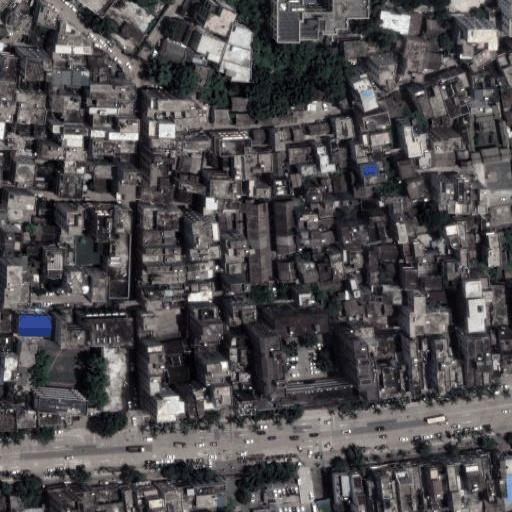building: (258, 338, 358, 410), (269, 0, 362, 35), (212, 15, 248, 75), (104, 203, 127, 294), (249, 204, 270, 282), (84, 317, 140, 346), (346, 334, 371, 395), (264, 307, 317, 333), (187, 302, 218, 346), (181, 484, 227, 512), (147, 99, 204, 118), (151, 310, 184, 339), (18, 313, 53, 338), (186, 388, 213, 419), (57, 317, 84, 347), (378, 10, 411, 34), (193, 27, 221, 55), (146, 397, 176, 423), (38, 391, 86, 407), (25, 57, 55, 82), (59, 20, 89, 45), (244, 154, 274, 179), (9, 194, 36, 221), (158, 38, 186, 64), (414, 89, 436, 122), (276, 200, 294, 240), (397, 291, 414, 333), (89, 85, 136, 100), (168, 20, 194, 47), (429, 84, 449, 119), (481, 457, 497, 500), (342, 225, 369, 250), (467, 298, 486, 333), (403, 333, 414, 393), (457, 18, 487, 40), (444, 95, 470, 120), (120, 23, 147, 47), (464, 458, 484, 490), (472, 47, 499, 70), (220, 136, 251, 156), (424, 338, 435, 394), (55, 71, 91, 88), (404, 126, 423, 158), (36, 4, 59, 30), (139, 346, 158, 377), (447, 463, 467, 492), (362, 111, 391, 131), (455, 333, 467, 381), (16, 92, 47, 110), (67, 271, 91, 294), (45, 250, 64, 279), (414, 306, 439, 328), (406, 174, 427, 200), (210, 179, 240, 197), (360, 88, 379, 116), (58, 175, 82, 197), (189, 65, 211, 89), (333, 473, 351, 502), (194, 222, 213, 249), (47, 486, 70, 508), (157, 211, 182, 231), (142, 273, 187, 284), (91, 275, 109, 302), (402, 52, 424, 74), (353, 475, 366, 512), (16, 108, 46, 124), (179, 156, 203, 176), (10, 140, 35, 159), (144, 262, 187, 273), (20, 341, 38, 367), (334, 118, 355, 140), (85, 202, 100, 232), (150, 163, 168, 188), (142, 188, 172, 203), (233, 306, 258, 324), (407, 12, 425, 37), (430, 468, 443, 502), (124, 490, 144, 512), (192, 351, 212, 373), (214, 387, 233, 410), (57, 198, 72, 227), (38, 406, 71, 419), (288, 147, 313, 164), (55, 227, 76, 247), (88, 100, 118, 114), (396, 159, 417, 179), (373, 57, 392, 79), (166, 366, 189, 384), (6, 266, 23, 290), (54, 59, 88, 71), (179, 181, 207, 195), (474, 333, 482, 381), (16, 162, 35, 182), (2, 229, 16, 256), (115, 184, 136, 202), (437, 79, 455, 100), (430, 152, 457, 166), (452, 490, 469, 512), (118, 116, 140, 133), (381, 197, 403, 214), (369, 132, 391, 149), (182, 141, 213, 153), (375, 361, 391, 384), (91, 57, 111, 75), (92, 114, 116, 129), (229, 336, 239, 372), (353, 184, 377, 199), (92, 139, 113, 156), (439, 182, 456, 203), (41, 144, 63, 160), (459, 248, 470, 280), (330, 145, 352, 161), (345, 41, 367, 57), (278, 262, 297, 280), (421, 164, 459, 173), (13, 406, 33, 423), (272, 180, 292, 197), (502, 53, 512, 87), (113, 139, 137, 153), (467, 333, 474, 381), (63, 110, 85, 125), (497, 330, 512, 352), (63, 149, 88, 162), (464, 280, 482, 298), (350, 250, 368, 268), (319, 155, 337, 173), (299, 214, 318, 231), (231, 97, 250, 114), (162, 341, 185, 355), (405, 268, 419, 291), (276, 240, 297, 255), (405, 40, 426, 55), (432, 140, 454, 154), (457, 40, 475, 57), (26, 247, 45, 263), (334, 174, 350, 193), (85, 192, 115, 202), (361, 164, 381, 179), (95, 489, 118, 502), (187, 281, 214, 292), (484, 498, 505, 512), (63, 135, 84, 149), (309, 121, 330, 135), (9, 494, 25, 512), (37, 224, 55, 240), (96, 160, 112, 178), (63, 162, 85, 175), (187, 261, 215, 271), (378, 245, 398, 259), (218, 213, 232, 233), (501, 0, 510, 31), (345, 300, 366, 313), (118, 100, 135, 116), (330, 263, 346, 280), (223, 197, 240, 213), (187, 271, 214, 281), (187, 292, 214, 302), (319, 280, 346, 290), (177, 190, 195, 205), (435, 345, 441, 390), (143, 231, 162, 245), (371, 334, 385, 353), (424, 276, 443, 290), (175, 118, 208, 126), (498, 122, 509, 146), (501, 352, 512, 376), (18, 284, 31, 304), (143, 205, 153, 231), (138, 286, 164, 296), (140, 377, 153, 397), (291, 287, 304, 307), (13, 386, 30, 401), (3, 354, 18, 371), (4, 290, 18, 308), (144, 296, 162, 310), (238, 401, 256, 415), (234, 382, 255, 394), (215, 110, 229, 128), (449, 76, 463, 94), (272, 116, 297, 126), (353, 79, 372, 92), (227, 247, 249, 258), (274, 129, 285, 151), (318, 203, 333, 219), (234, 155, 244, 179), (274, 154, 284, 178), (63, 96, 80, 110), (484, 246, 498, 263), (504, 475, 512, 504), (381, 292, 391, 315), (346, 322, 365, 334), (397, 223, 409, 242), (423, 51, 442, 63), (366, 302, 381, 317), (159, 124, 175, 138), (251, 129, 267, 143), (181, 47, 195, 63), (465, 58, 479, 74), (457, 73, 471, 89), (6, 11, 19, 28), (161, 177, 174, 194), (149, 138, 171, 148), (250, 116, 272, 126), (419, 133, 430, 153), (447, 262, 459, 280), (381, 225, 393, 243), (229, 283, 253, 292), (72, 45, 93, 55), (229, 372, 250, 382), (430, 290, 445, 304), (497, 54, 511, 69), (385, 259, 396, 278), (191, 249, 208, 261), (391, 289, 403, 306), (369, 225, 381, 242), (369, 215, 389, 225), (482, 155, 502, 165), (367, 480, 378, 498), (319, 262, 330, 280), (299, 231, 321, 240), (422, 61, 440, 72), (481, 147, 499, 158), (456, 182, 465, 204), (94, 178, 108, 192), (208, 246, 221, 261), (425, 40, 440, 53), (51, 96, 63, 112), (440, 473, 450, 492), (368, 252, 378, 271), (109, 133, 140, 139), (391, 361, 399, 384), (297, 240, 320, 248), (63, 128, 89, 135), (394, 40, 407, 54), (449, 137, 463, 150), (467, 489, 479, 504), (67, 247, 76, 267), (33, 124, 45, 139), (145, 245, 163, 255), (419, 256, 428, 276), (307, 191, 322, 203), (298, 164, 316, 174), (486, 231, 498, 246), (333, 501, 349, 512), (140, 314, 151, 330), (303, 271, 319, 282), (223, 156, 234, 172), (440, 358, 446, 387), (297, 262, 316, 271), (149, 121, 159, 138), (164, 245, 181, 255), (479, 189, 489, 206), (418, 234, 431, 247), (122, 172, 136, 184), (162, 296, 186, 303), (380, 389, 401, 397), (449, 236, 463, 248), (236, 114, 250, 126), (432, 20, 446, 32), (419, 153, 431, 167), (368, 271, 379, 286), (321, 234, 336, 245), (191, 57, 206, 68), (446, 357, 452, 384), (16, 229, 23, 252), (91, 75, 111, 83), (256, 189, 272, 199), (248, 179, 256, 199), (155, 155, 175, 163), (294, 128, 304, 144), (361, 200, 377, 210), (171, 353, 183, 366), (206, 197, 218, 210), (355, 144, 367, 157), (444, 225, 458, 236), (403, 242, 414, 256), (229, 264, 243, 275), (92, 130, 109, 139), (241, 345, 250, 362), (53, 45, 72, 53), (368, 317, 387, 325), (292, 174, 302, 189), (142, 255, 163, 262), (339, 34, 360, 41), (371, 147, 383, 159), (470, 189, 479, 205), (330, 252, 343, 263), (213, 223, 220, 243), (459, 90, 469, 104), (438, 240, 446, 257), (467, 126, 475, 143), (493, 354, 501, 371), (458, 221, 467, 236), (285, 128, 294, 143), (17, 181, 36, 188), (164, 290, 186, 296), (189, 174, 201, 185), (414, 243, 424, 256), (489, 8, 499, 21), (143, 489, 159, 497), (230, 239, 246, 247), (505, 458, 512, 476), (482, 291, 493, 302), (360, 289, 371, 300), (475, 116, 492, 123), (49, 82, 57, 96), (490, 330, 497, 346), (171, 141, 182, 151), (316, 145, 326, 156), (359, 71, 370, 81), (441, 13, 463, 18), (441, 115, 451, 126), (479, 123, 490, 133), (312, 253, 324, 262), (225, 258, 243, 264), (479, 133, 488, 145), (66, 310, 73, 325), (164, 237, 177, 245), (472, 74, 485, 82), (293, 110, 310, 116), (13, 3, 23, 13), (140, 330, 151, 339), (235, 222, 244, 233), (316, 498, 330, 505), (170, 303, 184, 310), (482, 277, 489, 291), (405, 256, 419, 263), (343, 250, 350, 264), (471, 107, 485, 114), (34, 218, 50, 224), (51, 125, 63, 133), (120, 153, 132, 161), (403, 197, 409, 213), (356, 157, 369, 164), (426, 18, 433, 31), (492, 107, 499, 120), (53, 53, 68, 59), (418, 225, 428, 234), (395, 214, 405, 223), (381, 283, 391, 292), (371, 286, 381, 295), (474, 90, 483, 100), (501, 154, 511, 163), (500, 148, 511, 156), (36, 182, 48, 189), (152, 148, 164, 155), (351, 173, 357, 187), (483, 89, 495, 96), (468, 114, 475, 126), (471, 158, 483, 165), (3, 371, 12, 380), (438, 257, 447, 266), (240, 204, 249, 213), (165, 257, 181, 262), (345, 290, 353, 300), (468, 206, 478, 214), (447, 203, 455, 213), (460, 204, 468, 214), (169, 284, 182, 290), (85, 166, 96, 173), (202, 210, 213, 217), (470, 153, 481, 160), (465, 189, 470, 204), (164, 231, 176, 237), (227, 319, 233, 331), (235, 213, 243, 222), (178, 174, 187, 182), (369, 179, 387, 183), (339, 160, 347, 169), (478, 206, 487, 214), (498, 250, 504, 262), (353, 290, 360, 300), (229, 291, 239, 298), (23, 232, 29, 243), (401, 392, 412, 398), (339, 290, 345, 301), (312, 247, 323, 253), (506, 110, 512, 121), (211, 348, 216, 361), (414, 333, 419, 346), (411, 73, 424, 78), (459, 54, 472, 59), (239, 362, 247, 370), (496, 77, 504, 85), (508, 136, 512, 152), (385, 346, 394, 353), (322, 178, 331, 185), (363, 135, 370, 144), (348, 57, 357, 64), (414, 77, 423, 84), (461, 161, 470, 168), (351, 278, 356, 290), (339, 200, 349, 206), (171, 151, 183, 156), (306, 104, 316, 110), (492, 131, 497, 143), (476, 234, 482, 244), (310, 203, 318, 210), (330, 140, 338, 147), (332, 48, 339, 56), (477, 42, 485, 49), (439, 203, 447, 210), (38, 160, 49, 165), (245, 199, 256, 204), (455, 203, 460, 214), (469, 143, 475, 152), (13, 0, 23, 5), (381, 78, 388, 85), (458, 152, 465, 159), (485, 107, 492, 114), (92, 156, 104, 160), (382, 353, 388, 361), (463, 236, 467, 248), (333, 200, 339, 208), (490, 78, 496, 86), (490, 123, 496, 131), (85, 173, 92, 179), (164, 303, 170, 310), (281, 280, 295, 283), (270, 251, 276, 258), (506, 120, 512, 127), (328, 184, 332, 194), (465, 150, 469, 159), (212, 360, 219, 365), (431, 242, 438, 247), (465, 182, 470, 189), (87, 100, 92, 106), (82, 185, 88, 190), (375, 297, 381, 302), (346, 268, 352, 273), (503, 107, 509, 112), (35, 177, 44, 180), (380, 202, 385, 207), (507, 132, 512, 137), (462, 120, 468, 124), (483, 82, 486, 89), (475, 129, 479, 134)
